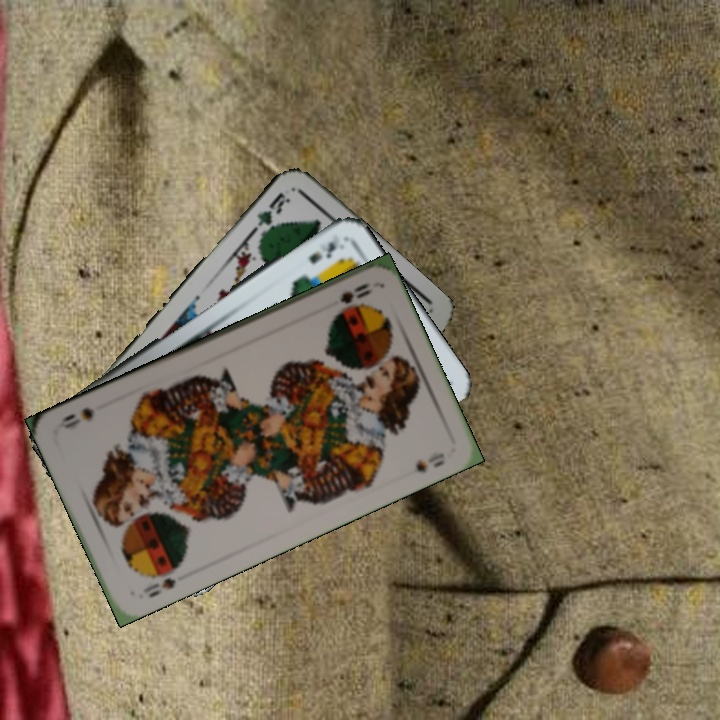EK: (304, 235, 340, 267)
GK: (248, 188, 293, 241)
SO: (138, 573, 179, 601), (336, 279, 376, 307)
